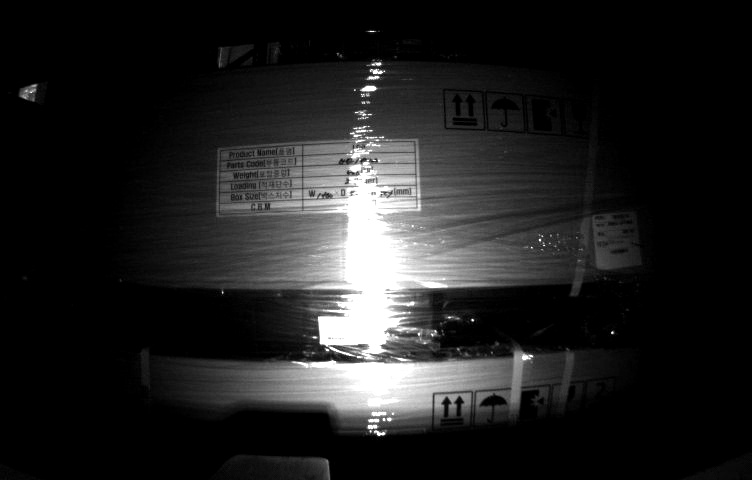True Barcode: (592, 210, 645, 269)
